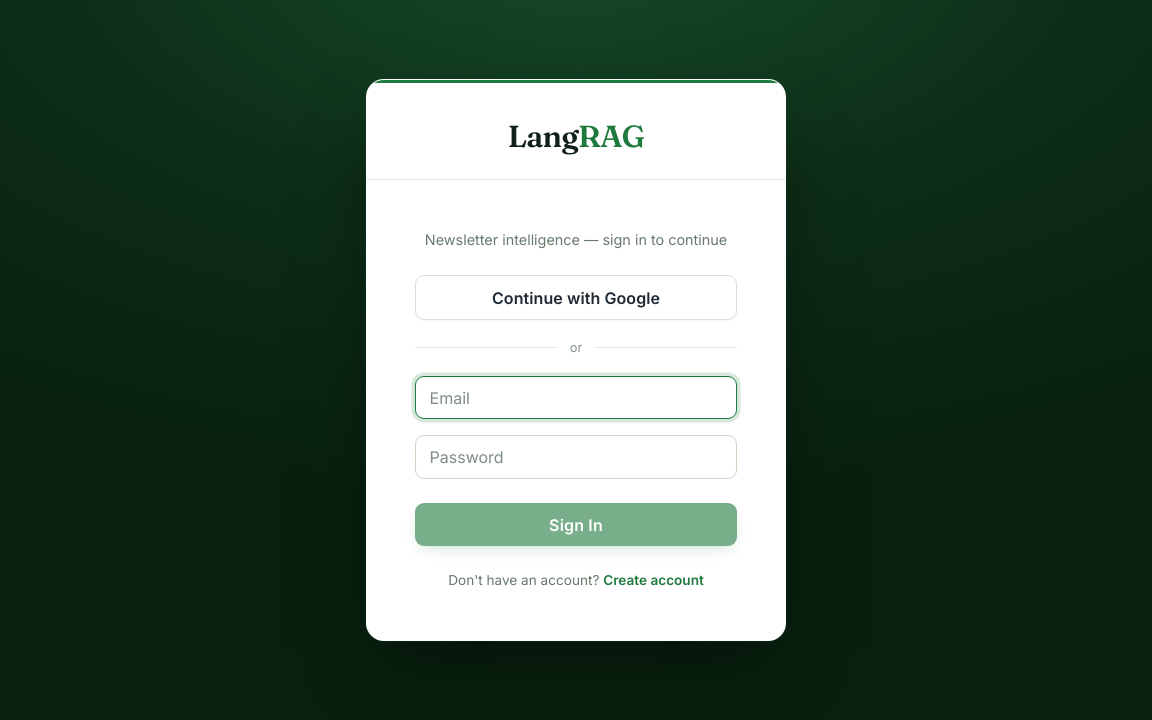
Test: renders the RejectionScreen on a not_allowlisted signup
Step 1. Click the button with test id "toggle-to-signup" → click(654, 581), box left=603, top=570, right=704, bottom=592
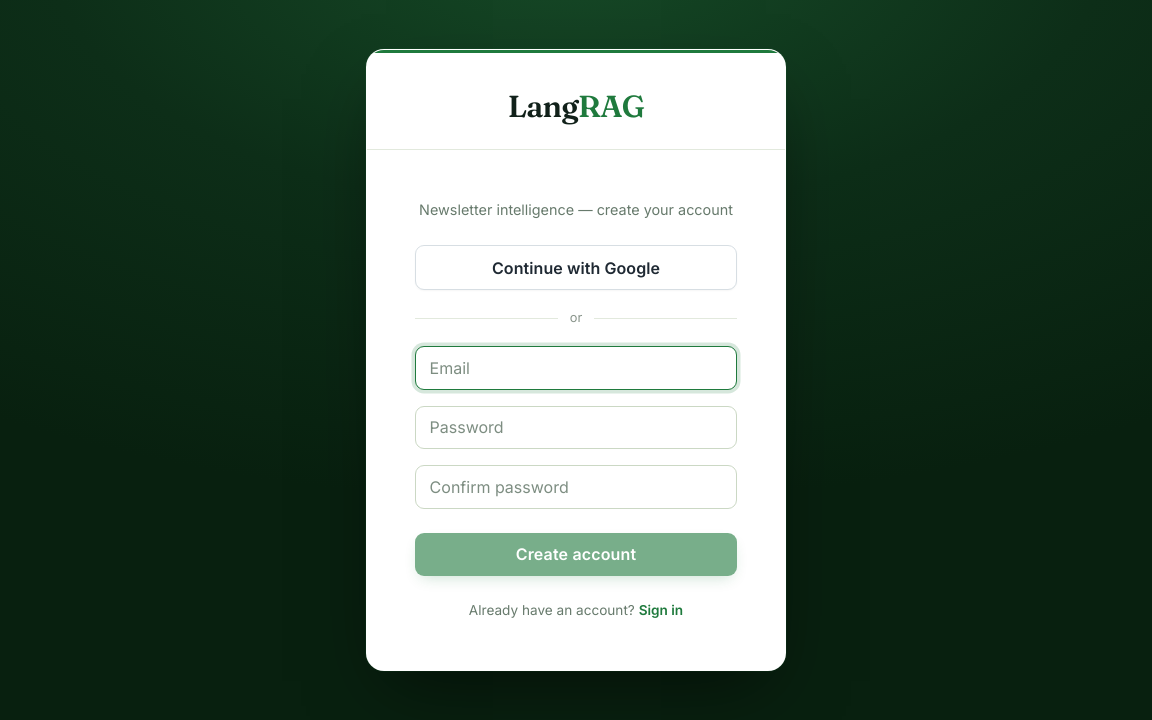
Step 2. Type "nope@example.com" into the field with test id "signup-email" → (576, 368), box left=415, top=346, right=737, bottom=390
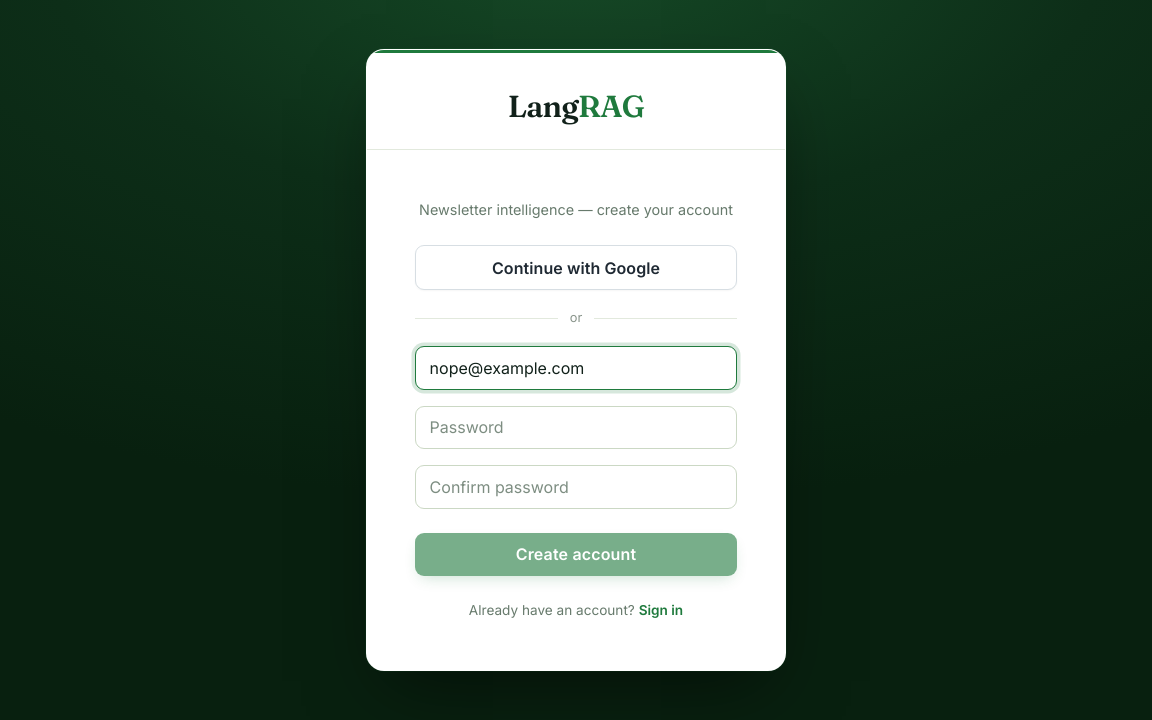
Step 3. Type "pw123456" into the password field with test id "signup-password" → (576, 427), box left=415, top=406, right=737, bottom=449
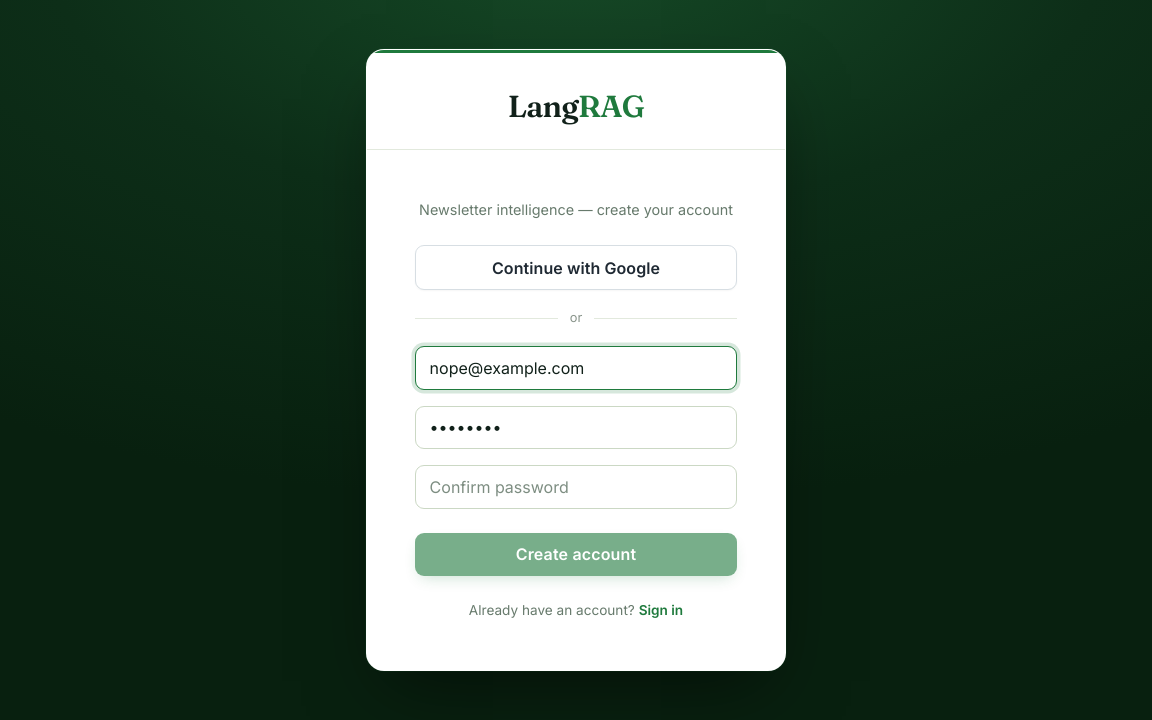
Step 4. Type "pw123456" into the password field with test id "signup-confirm" → (576, 487), box left=415, top=465, right=737, bottom=509
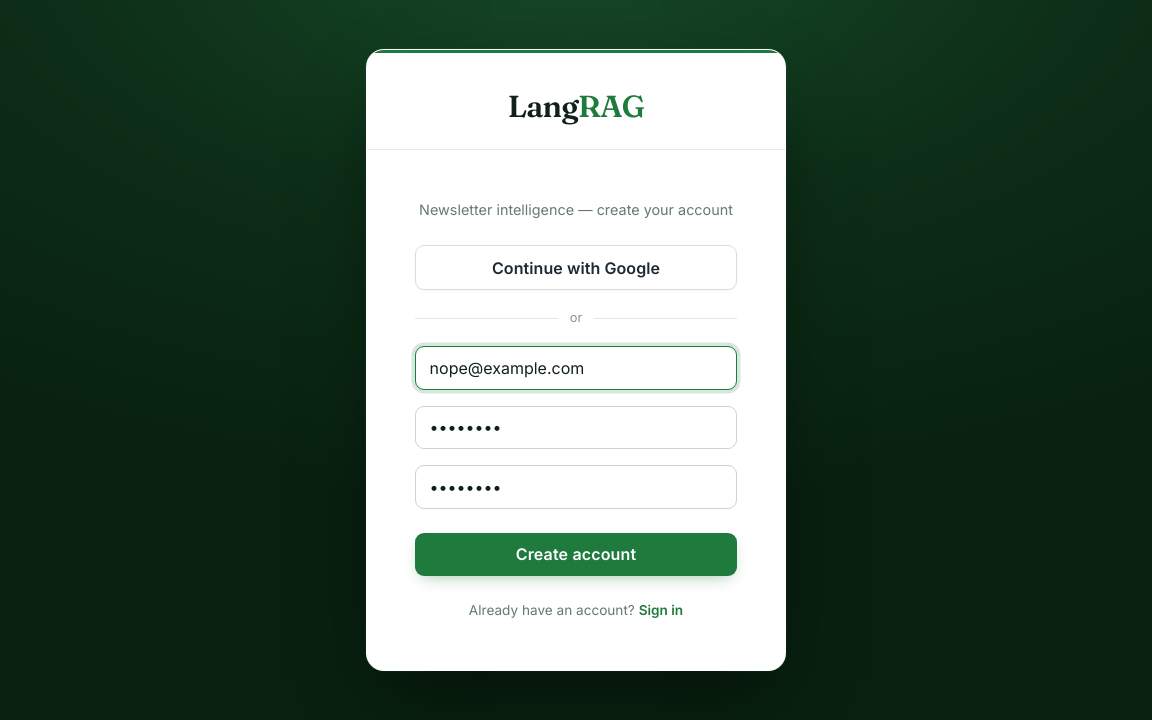
Step 5. Click the button with test id "signup-submit" → click(576, 554), box left=415, top=533, right=737, bottom=576
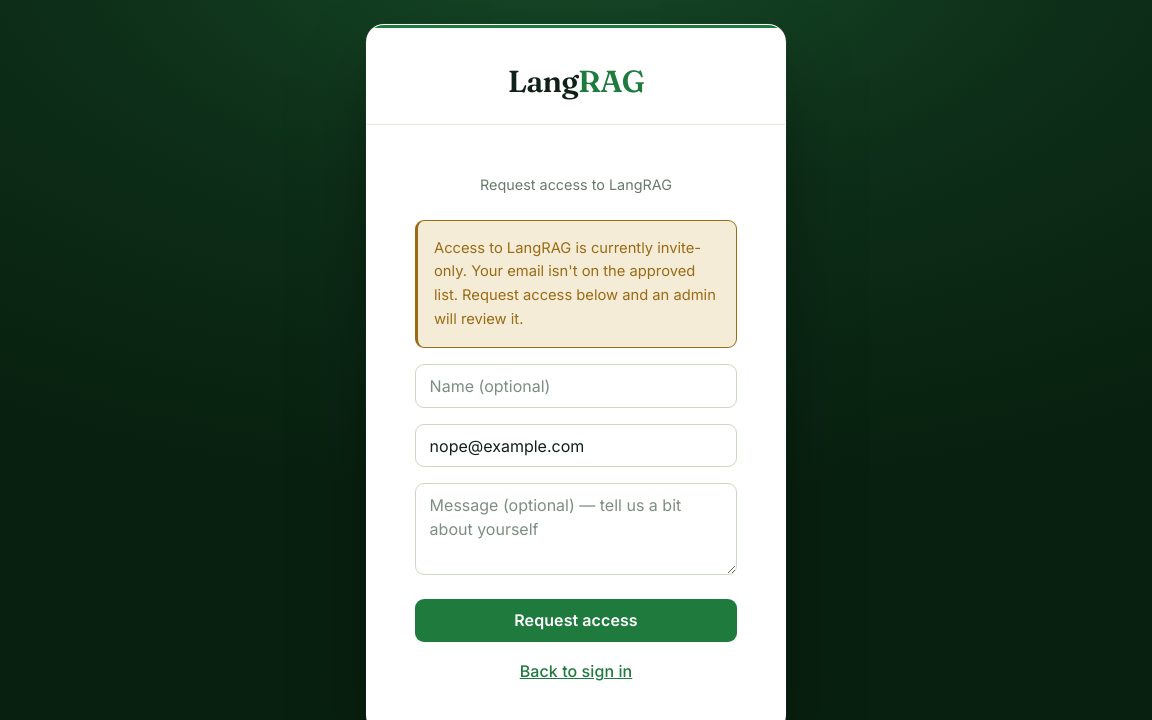
expect the element with test id "rejection-screen" is shown: met, box left=415, top=220, right=737, bottom=684
expect the field with test id "access-request-email" holds "nope@example.com": met, box left=415, top=424, right=737, bottom=467
